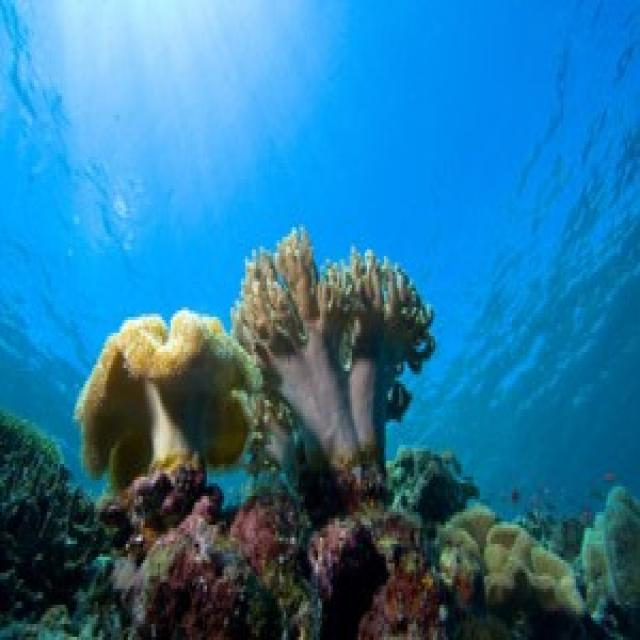Coral: (230, 224, 436, 476), (72, 308, 264, 486), (433, 503, 587, 617)
